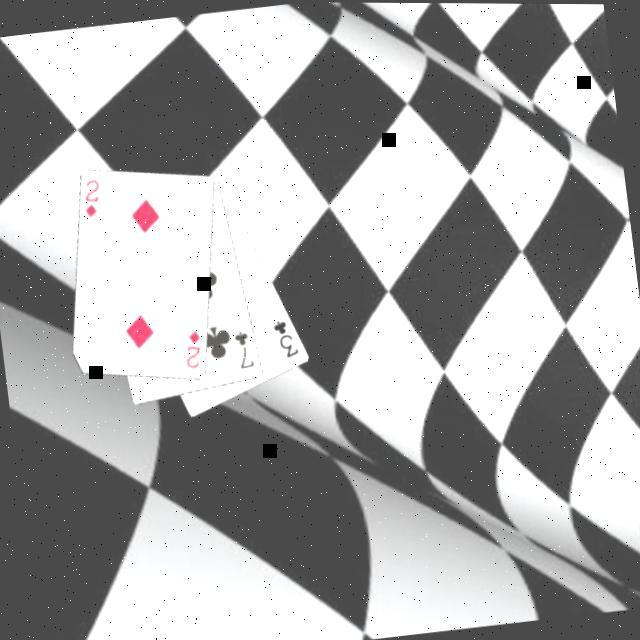2D: (79, 174, 106, 220), (180, 325, 207, 370)
3C: (270, 313, 303, 360)
7C: (231, 325, 258, 370)
